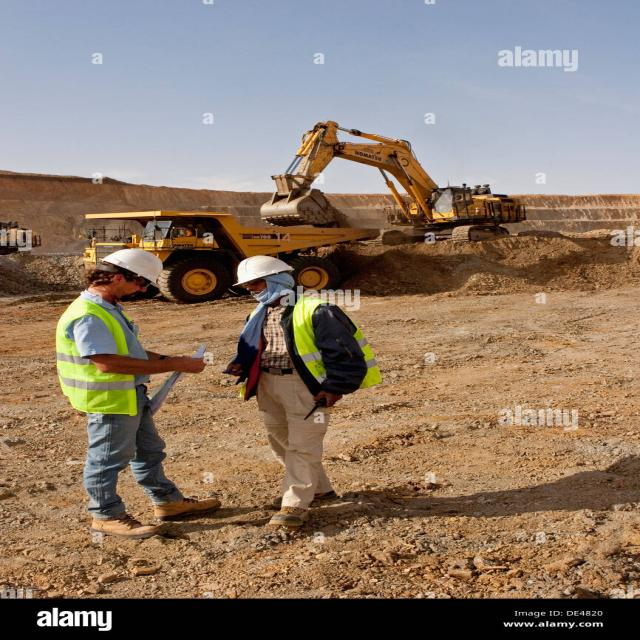dump_truck: (75, 202, 388, 294)
excavator: (241, 117, 554, 221)
